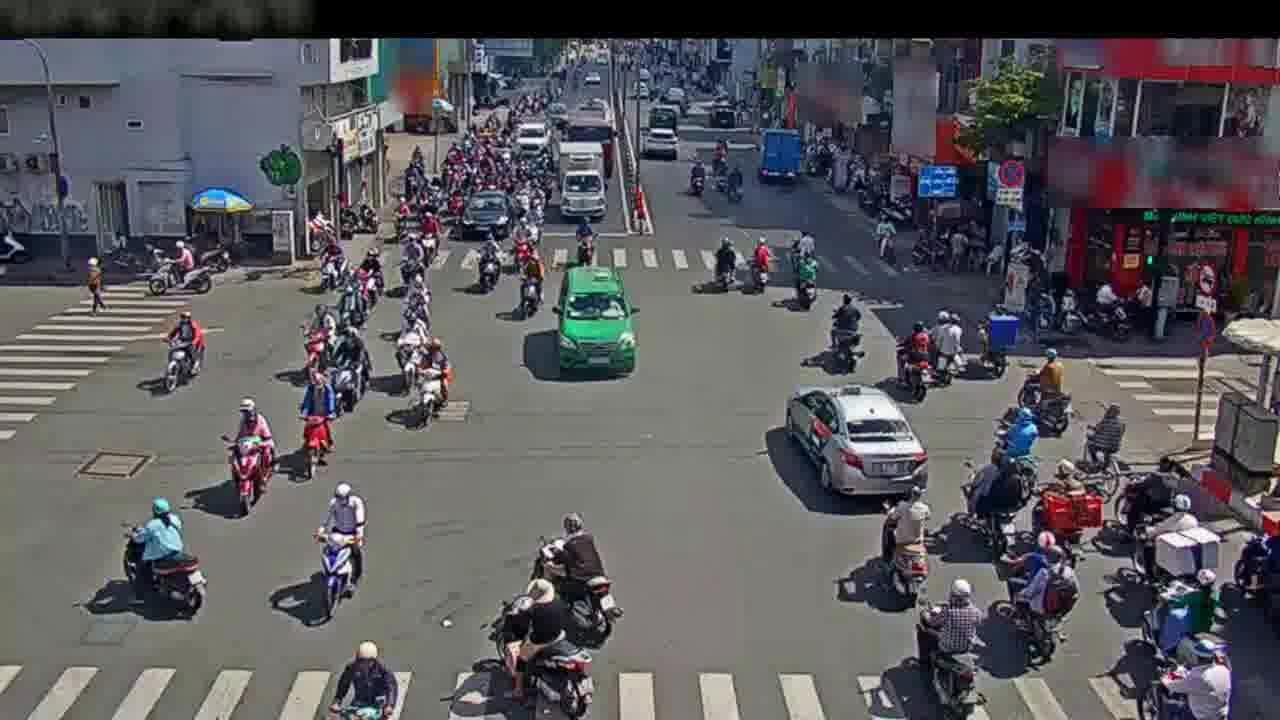8: (553, 140, 611, 214), (749, 126, 800, 189)
container: (793, 393, 919, 496), (557, 267, 636, 370), (461, 186, 510, 241)
motorbike: (485, 585, 601, 720), (532, 510, 617, 657), (1134, 565, 1232, 673), (910, 579, 983, 710), (122, 493, 199, 616), (1003, 538, 1067, 671), (1148, 498, 1218, 612), (1114, 448, 1191, 541), (314, 480, 367, 612), (961, 447, 1022, 556), (880, 485, 930, 604), (1037, 462, 1091, 566), (328, 644, 401, 720), (227, 401, 273, 511), (147, 233, 216, 299), (1029, 353, 1075, 439), (1081, 400, 1124, 489), (1234, 532, 1280, 612), (298, 383, 334, 484), (326, 328, 365, 420), (414, 337, 450, 433), (161, 314, 202, 394), (972, 304, 1013, 382), (894, 323, 932, 407), (992, 401, 1038, 469), (827, 294, 864, 378), (925, 314, 963, 394), (394, 310, 429, 395), (298, 306, 332, 381), (515, 247, 545, 324), (315, 232, 351, 296), (707, 234, 743, 297), (403, 266, 429, 341), (473, 232, 500, 299), (510, 214, 539, 276), (749, 232, 775, 299), (794, 239, 817, 314), (572, 210, 598, 273), (337, 264, 362, 327), (361, 251, 384, 312), (873, 215, 898, 271), (713, 160, 739, 208), (684, 154, 706, 200), (401, 233, 422, 281), (422, 211, 438, 264)
